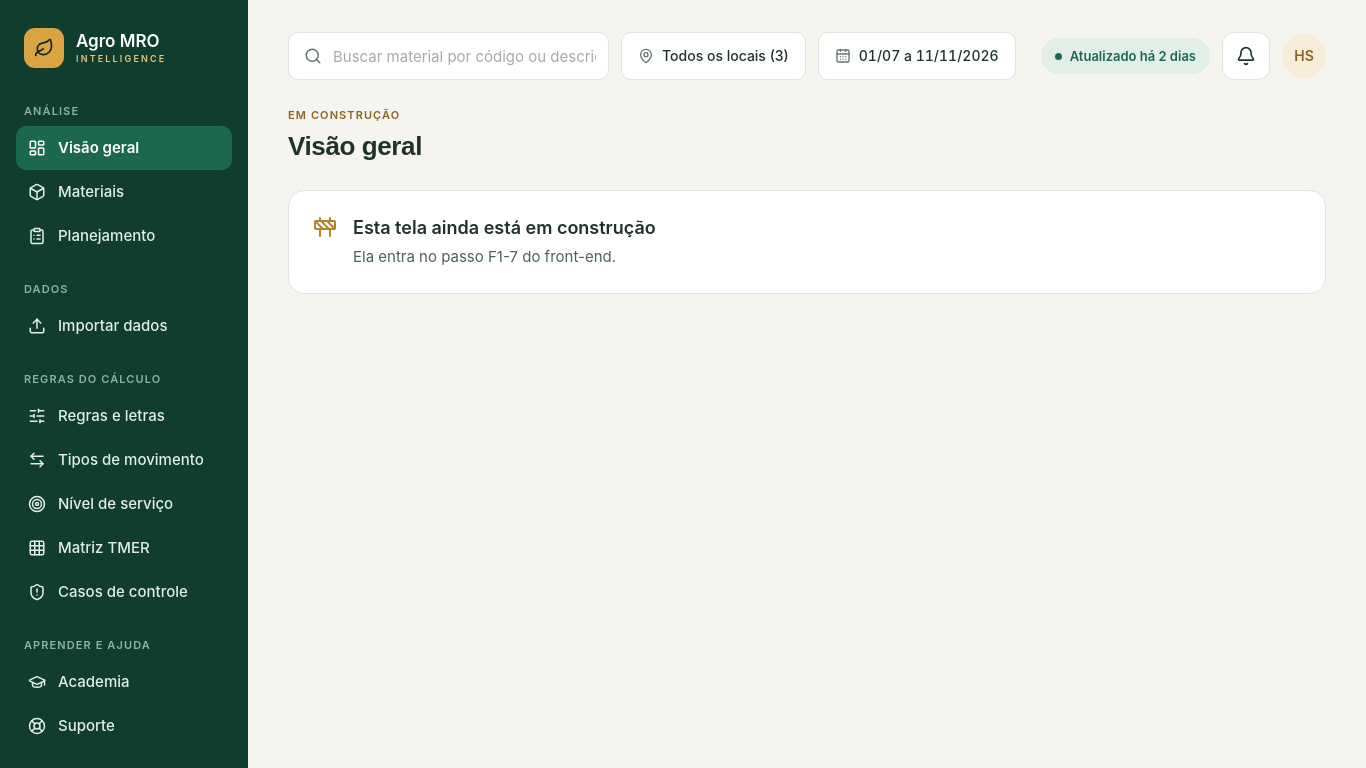
Test: BuscaGlobal › Esc fecha; Esc de novo limpa
Type "correia" into the dropdown named "Buscar material ou tela".
click(449, 56); type("correia")  # box left=288, top=32, right=609, bottom=80
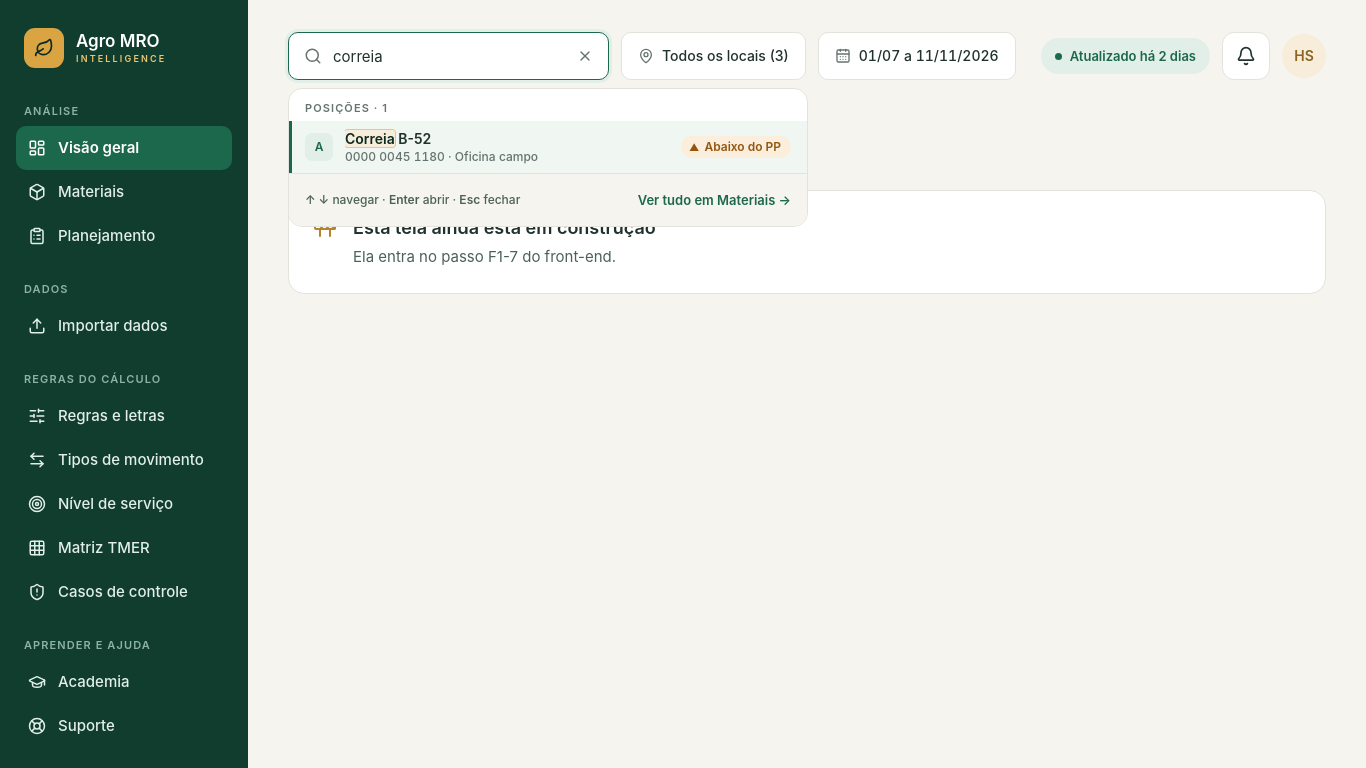
Press Escape
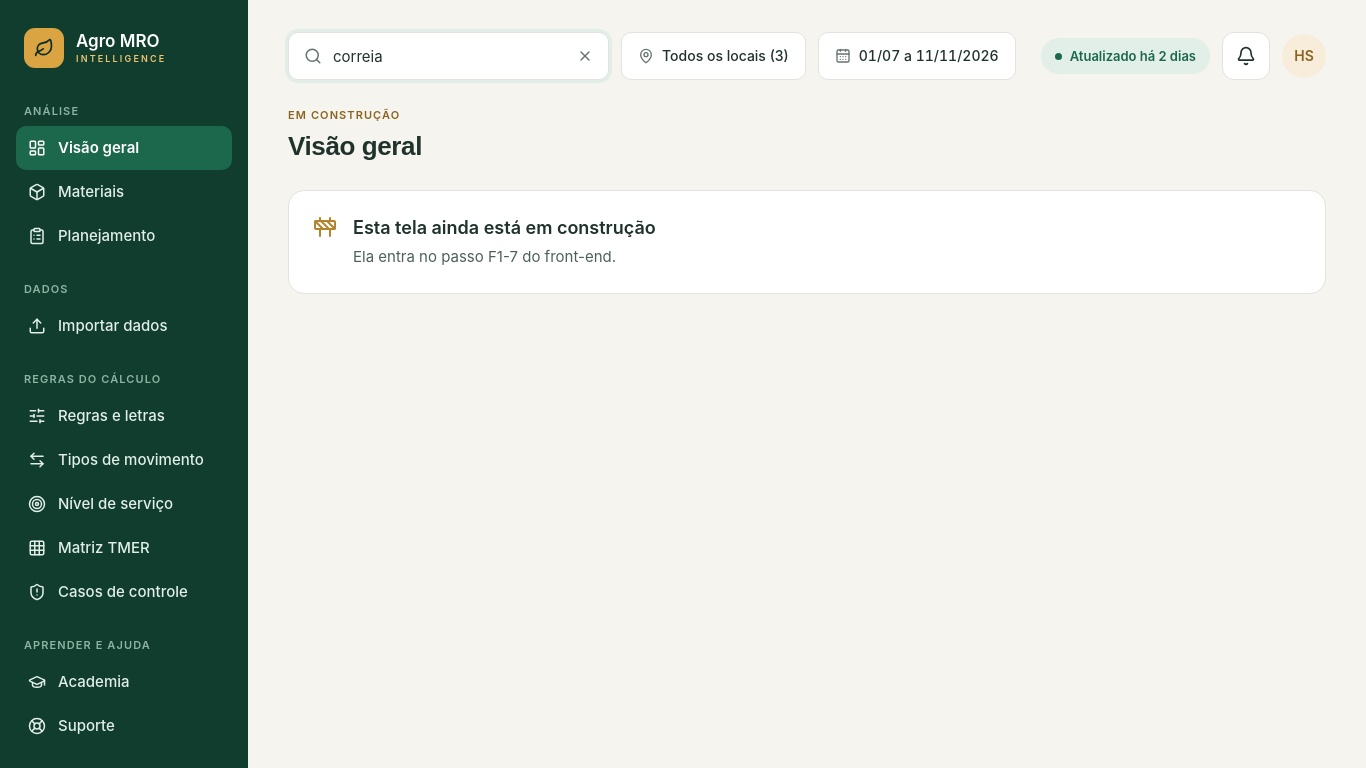
Press Escape
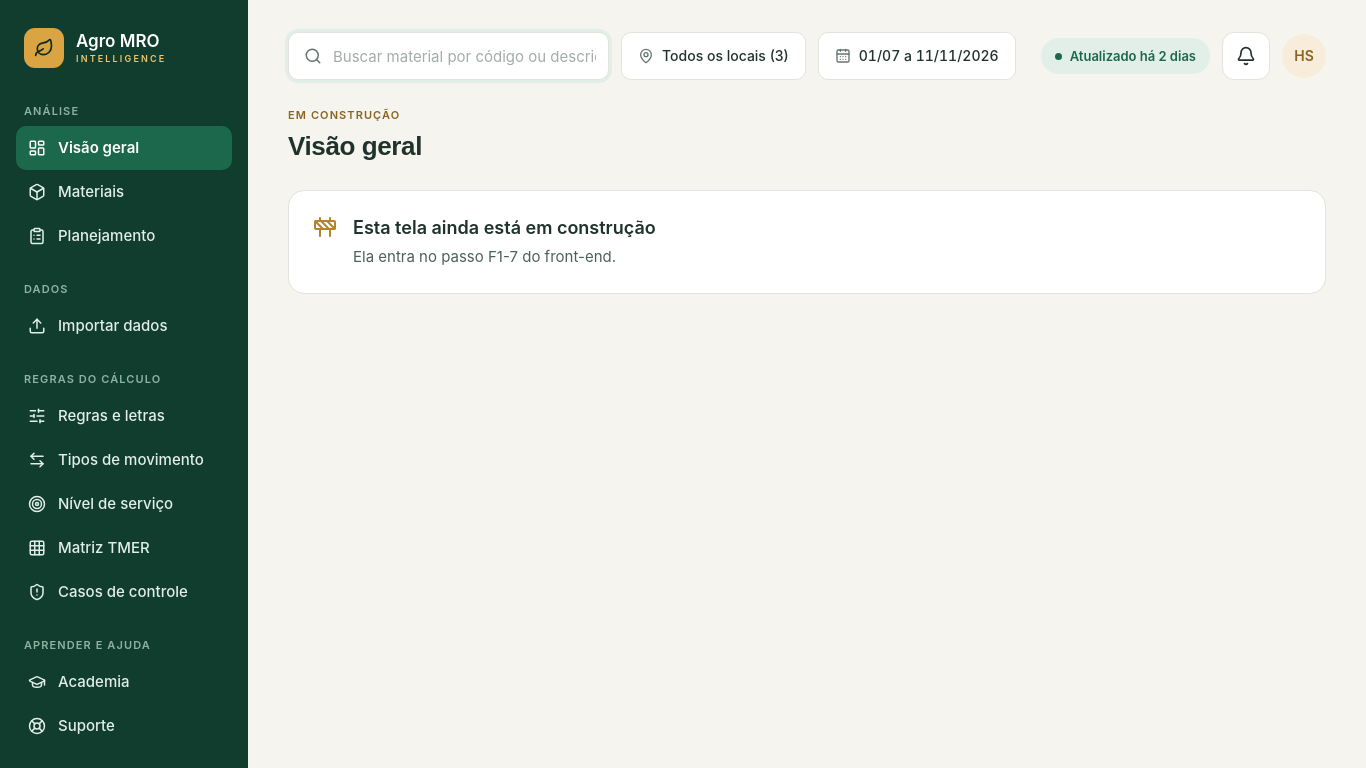
Result: the dropdown named "Buscar material ou tela" is empty at left=288, top=32, right=609, bottom=80
